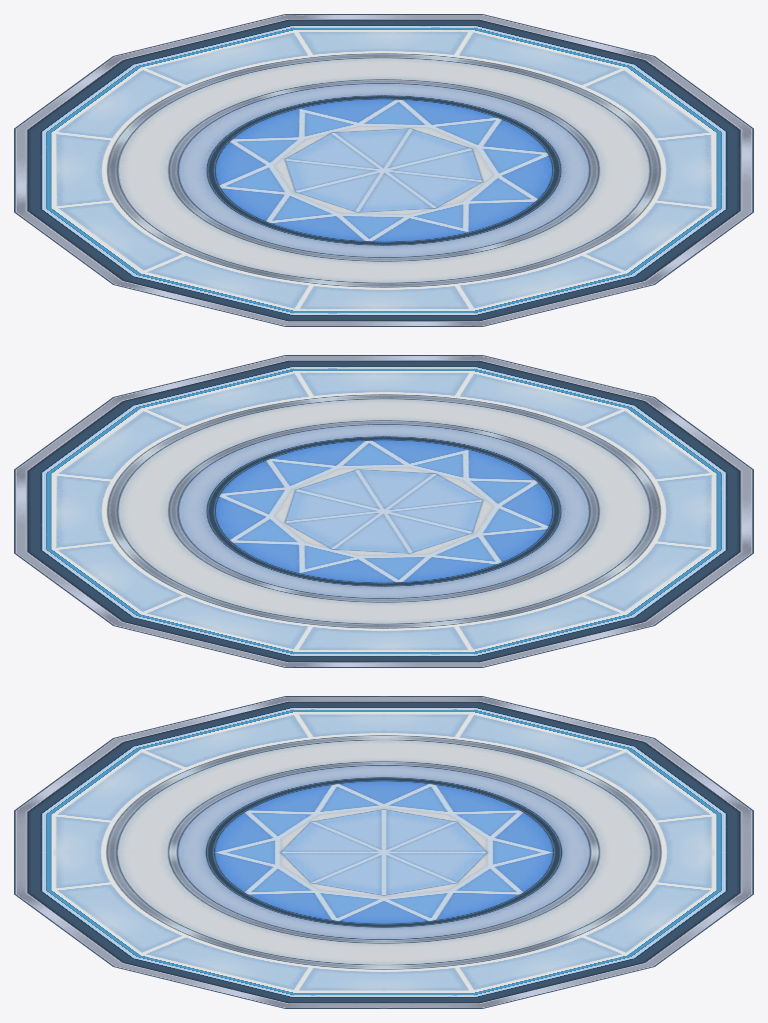
File: my_millenniumlounge_01_carpet_03.glb
3 views of the same model, one above another, from view 1: azimuth 30°, elevation 25°; view 2: azimuth 150°, elevation 25°; view 3: azimuth 270°, elevation 25° (orthographic).
Visible parts, largest first — view 1: my_millenniumlounge_01_carpet_03; view 2: my_millenniumlounge_01_carpet_03; view 3: my_millenniumlounge_01_carpet_03.
Boxes of the visible parts, left/top/right/bottom form: my_millenniumlounge_01_carpet_03: left=14, top=14, right=753, bottom=326; my_millenniumlounge_01_carpet_03: left=14, top=355, right=753, bottom=667; my_millenniumlounge_01_carpet_03: left=14, top=696, right=753, bottom=1008.
Bounding box in the file's own units: 0.0308 × 5.74e-10 × 0.0308.
Materials: 1 (1 with a texture image).
